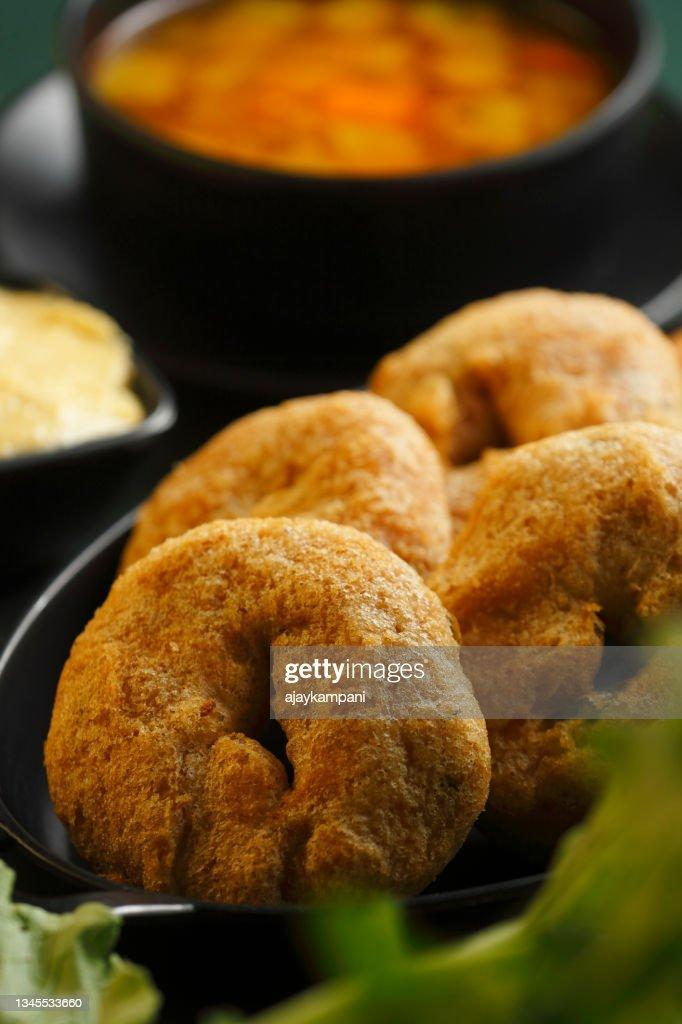mvada: (384, 371, 677, 576)
